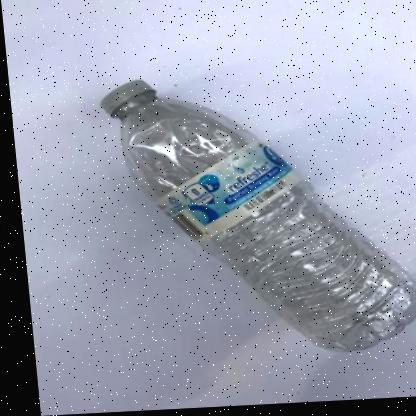Plastic: (99, 82, 416, 356)
